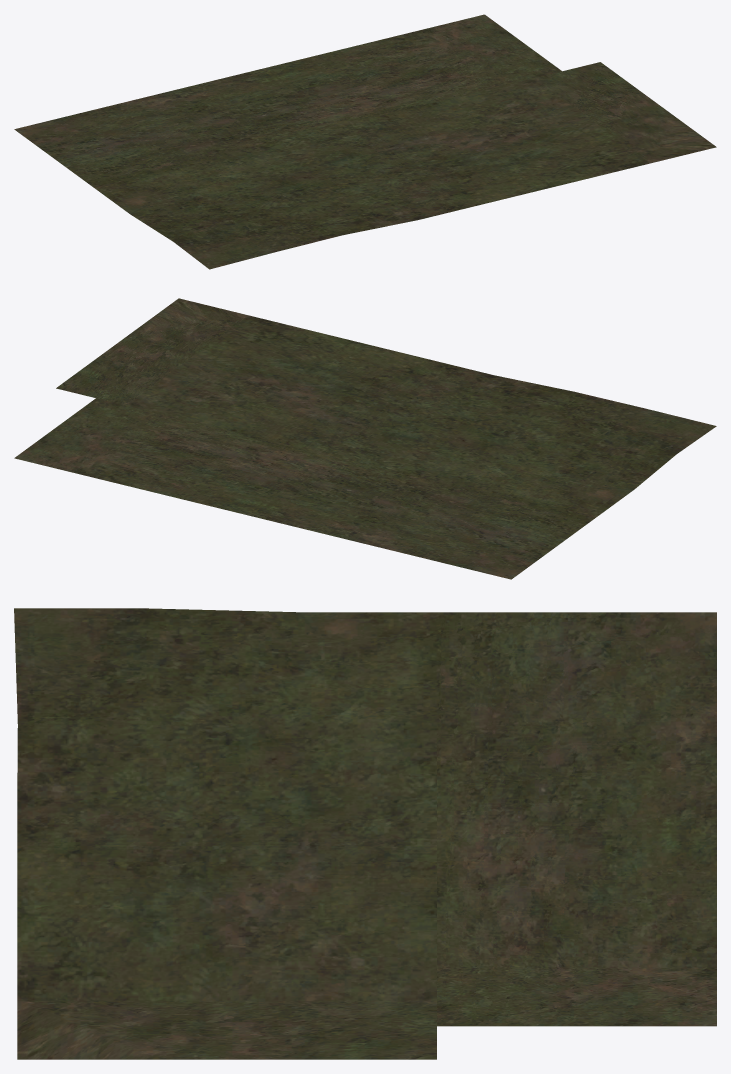
The model's file is blend_weeds09.fbx.
3 views of the same model, one above another, from view 1: azimuth 30°, elevation 25°; view 2: azimuth 150°, elevation 25°; view 3: azimuth 270°, elevation 25° (orthographic). The views are drawn at different scales.
Visible parts, largest first — view 1: obj0.030; view 2: obj0.030; view 3: obj0.030.
Boxes of the visible parts, bbox=[...] form: obj0.030: bbox=[14, 14, 716, 269]; obj0.030: bbox=[14, 298, 716, 579]; obj0.030: bbox=[14, 608, 716, 1059].
Bounding box in the file's own units: 18.92 × 0.1101 × 12.56.
